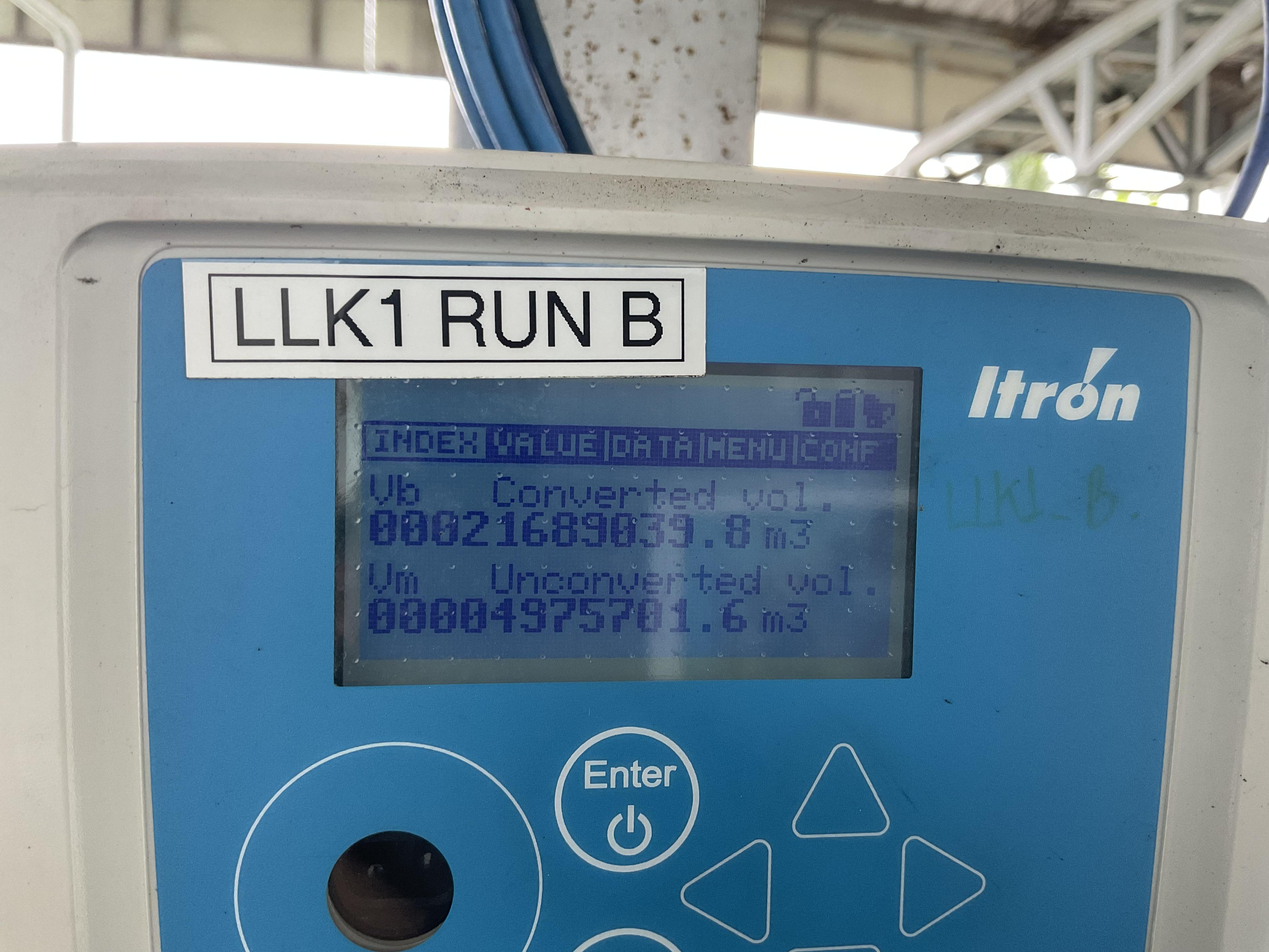digital_screen: (336, 360, 922, 685)
